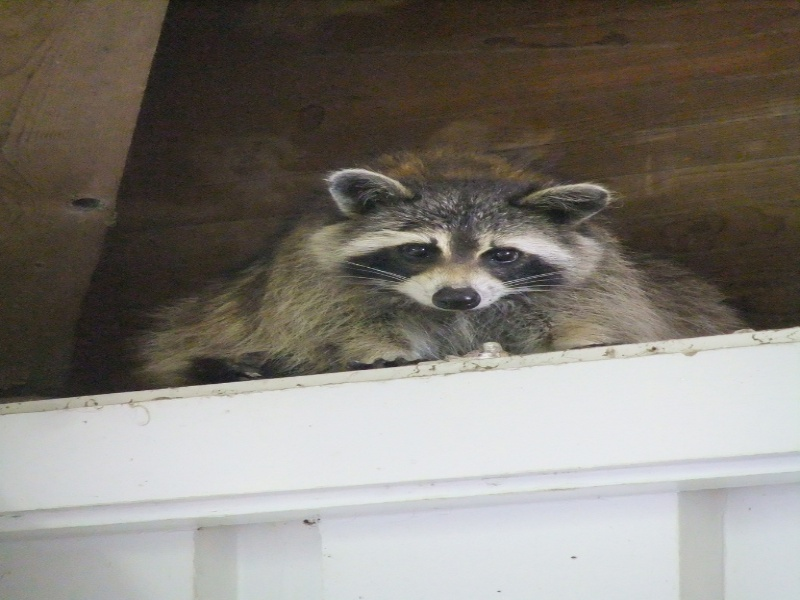raccoon: (131, 145, 762, 394)
